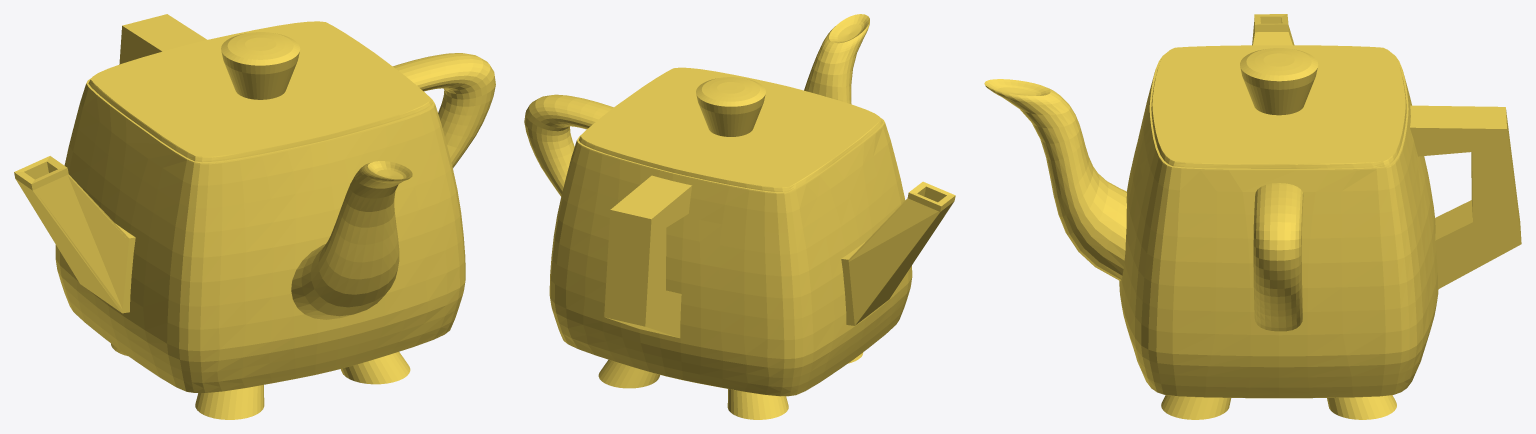
The picture shows the model from 3 angles, left to right: view 1: azimuth 30°, elevation 25°; view 2: azimuth 150°, elevation 25°; view 3: azimuth 270°, elevation 25°; orthographic projection. The views are drawn at different scales.
Parts seen in each view (by area): view 1: world; view 2: world; view 3: world.
Part boxes in pixels (x1,y1,x2,y2): world: [14, 14, 495, 419]; world: [524, 14, 955, 419]; world: [984, 14, 1521, 419].
Size of the model in its own units: 0.0356 by 0.0225 by 0.0353.
